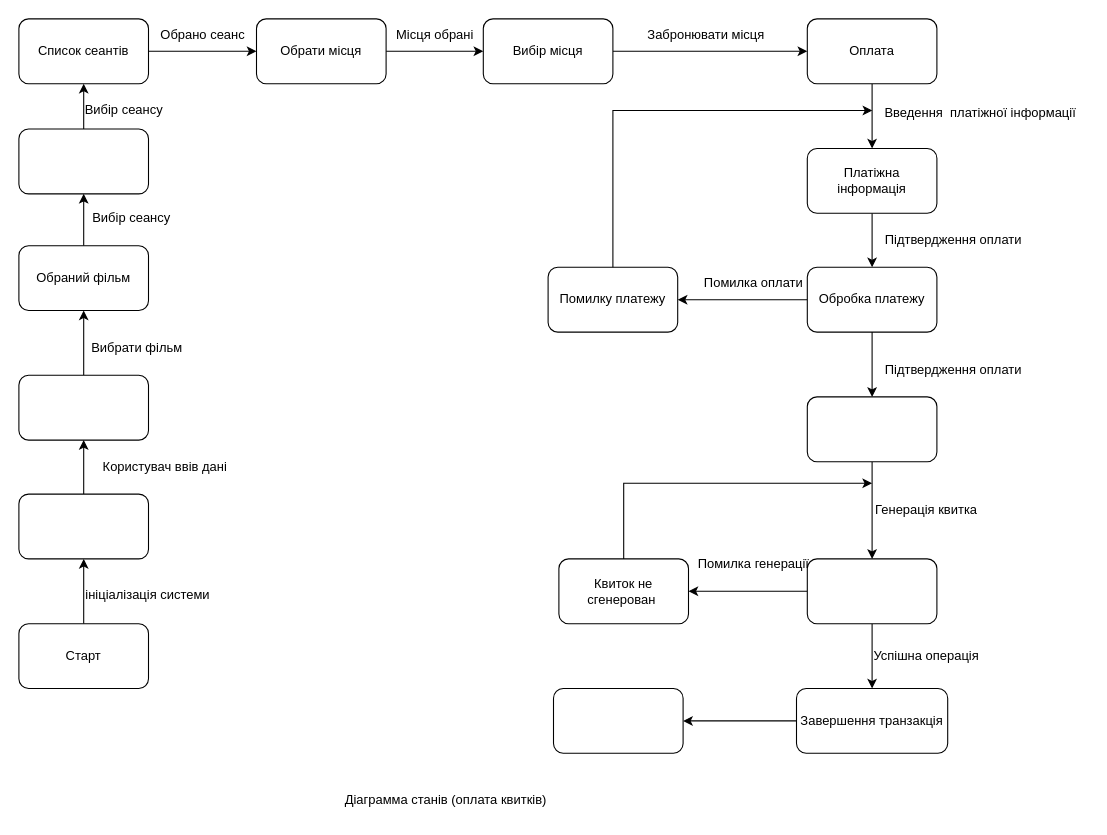
The diagram is 1107 pixels wide and 835 high, and some of its shapes have lost their labels. The centre of each missing label's shape, as x and y in pixels:
Бронювання: [83,161]
Вхід у систему: [83,526]
Квиток сгенерован: [871,591]
Кінець: [617,720]
Оплата успішна: [871,429]
Список фільмів: [83,407]
